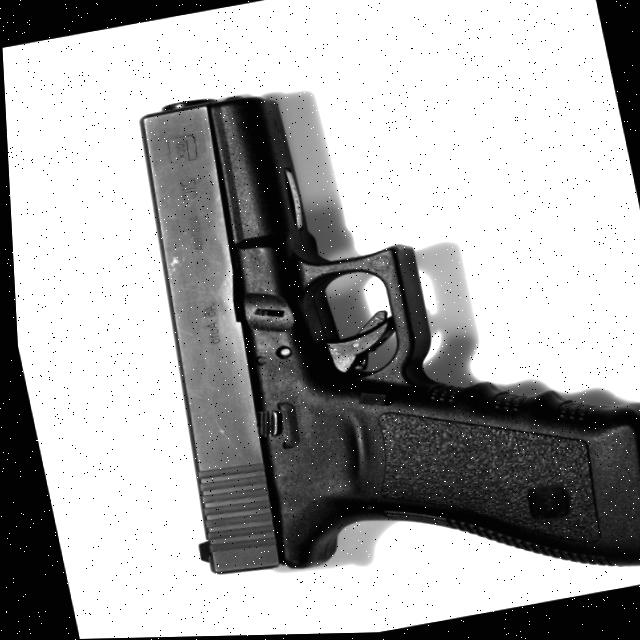pistol: (101, 26, 640, 638)
